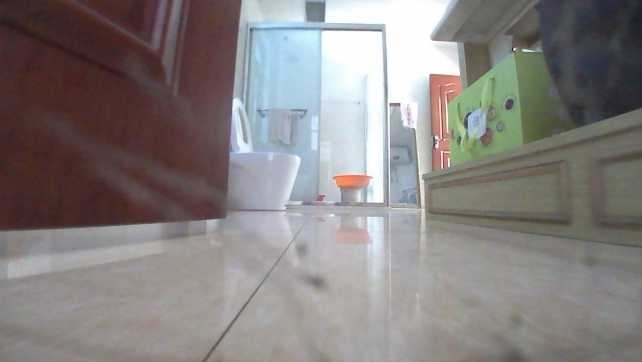door_sill: (315, 199, 388, 209)
toilet: (223, 94, 301, 214)
